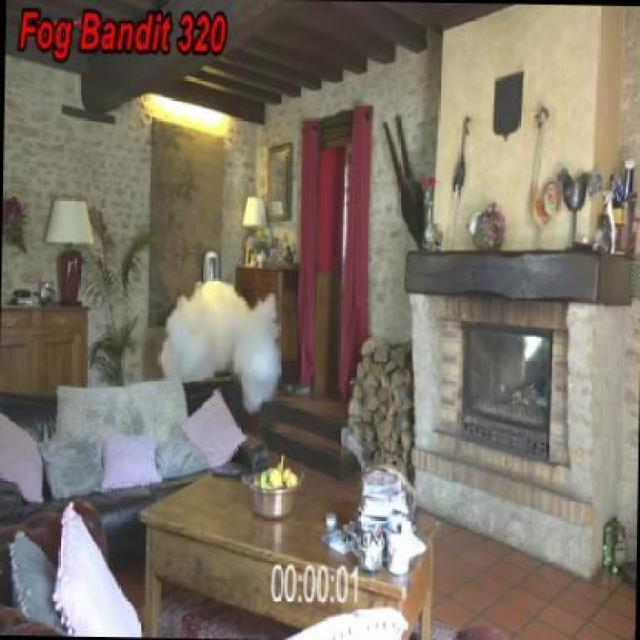fire: (158, 276, 290, 416)
